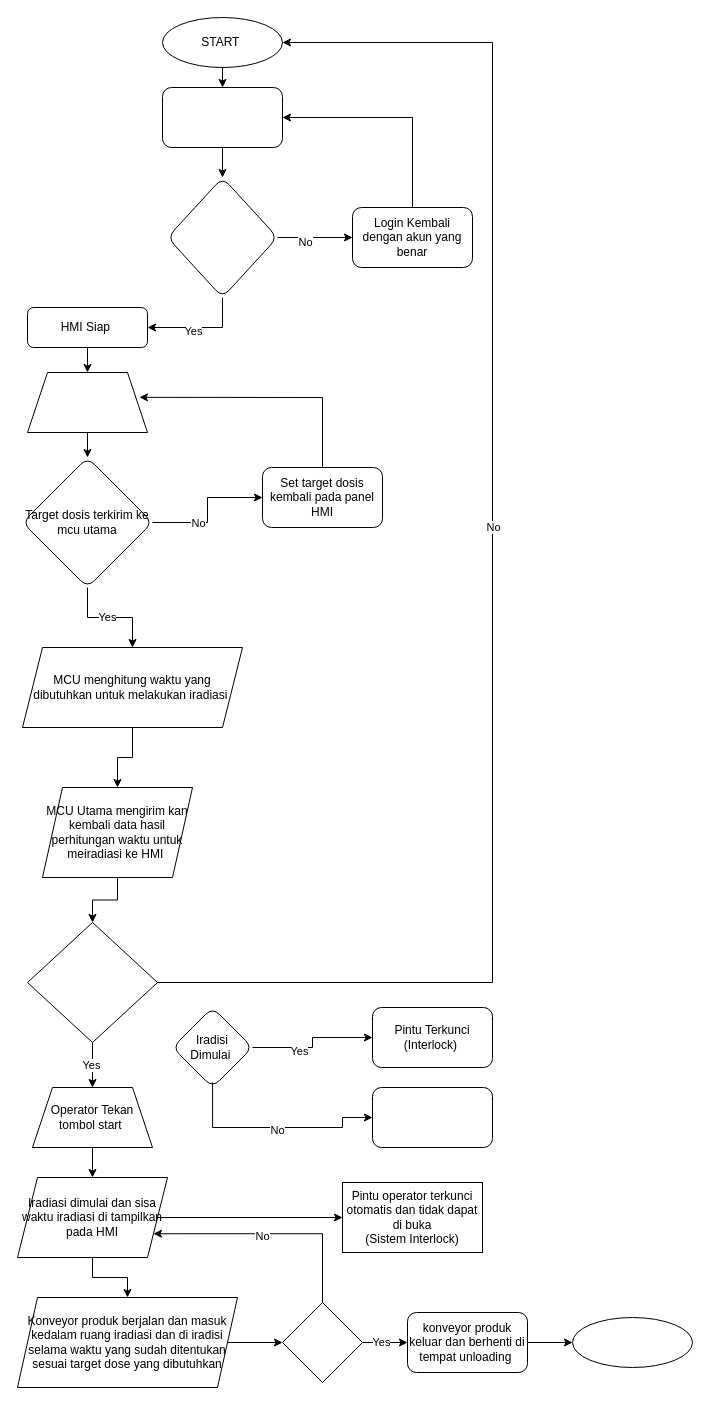
This 710x1405 diagram has some shape labels left out. Here are the shapes that lost their labels. From the top down, the box of each, then its label:
(162, 86, 282, 148): Login HMI
(166, 176, 278, 298): Login HMI Berhasil
(26, 372, 148, 432): Operator set target dosis
(26, 922, 158, 1042): Waktu iradiasi tertampil dan siap pada panel HMI
(372, 1086, 492, 1148): Pintu Terbuka
(282, 1302, 362, 1382): Iradisi selesai
(572, 1316, 692, 1368): SELESAI
